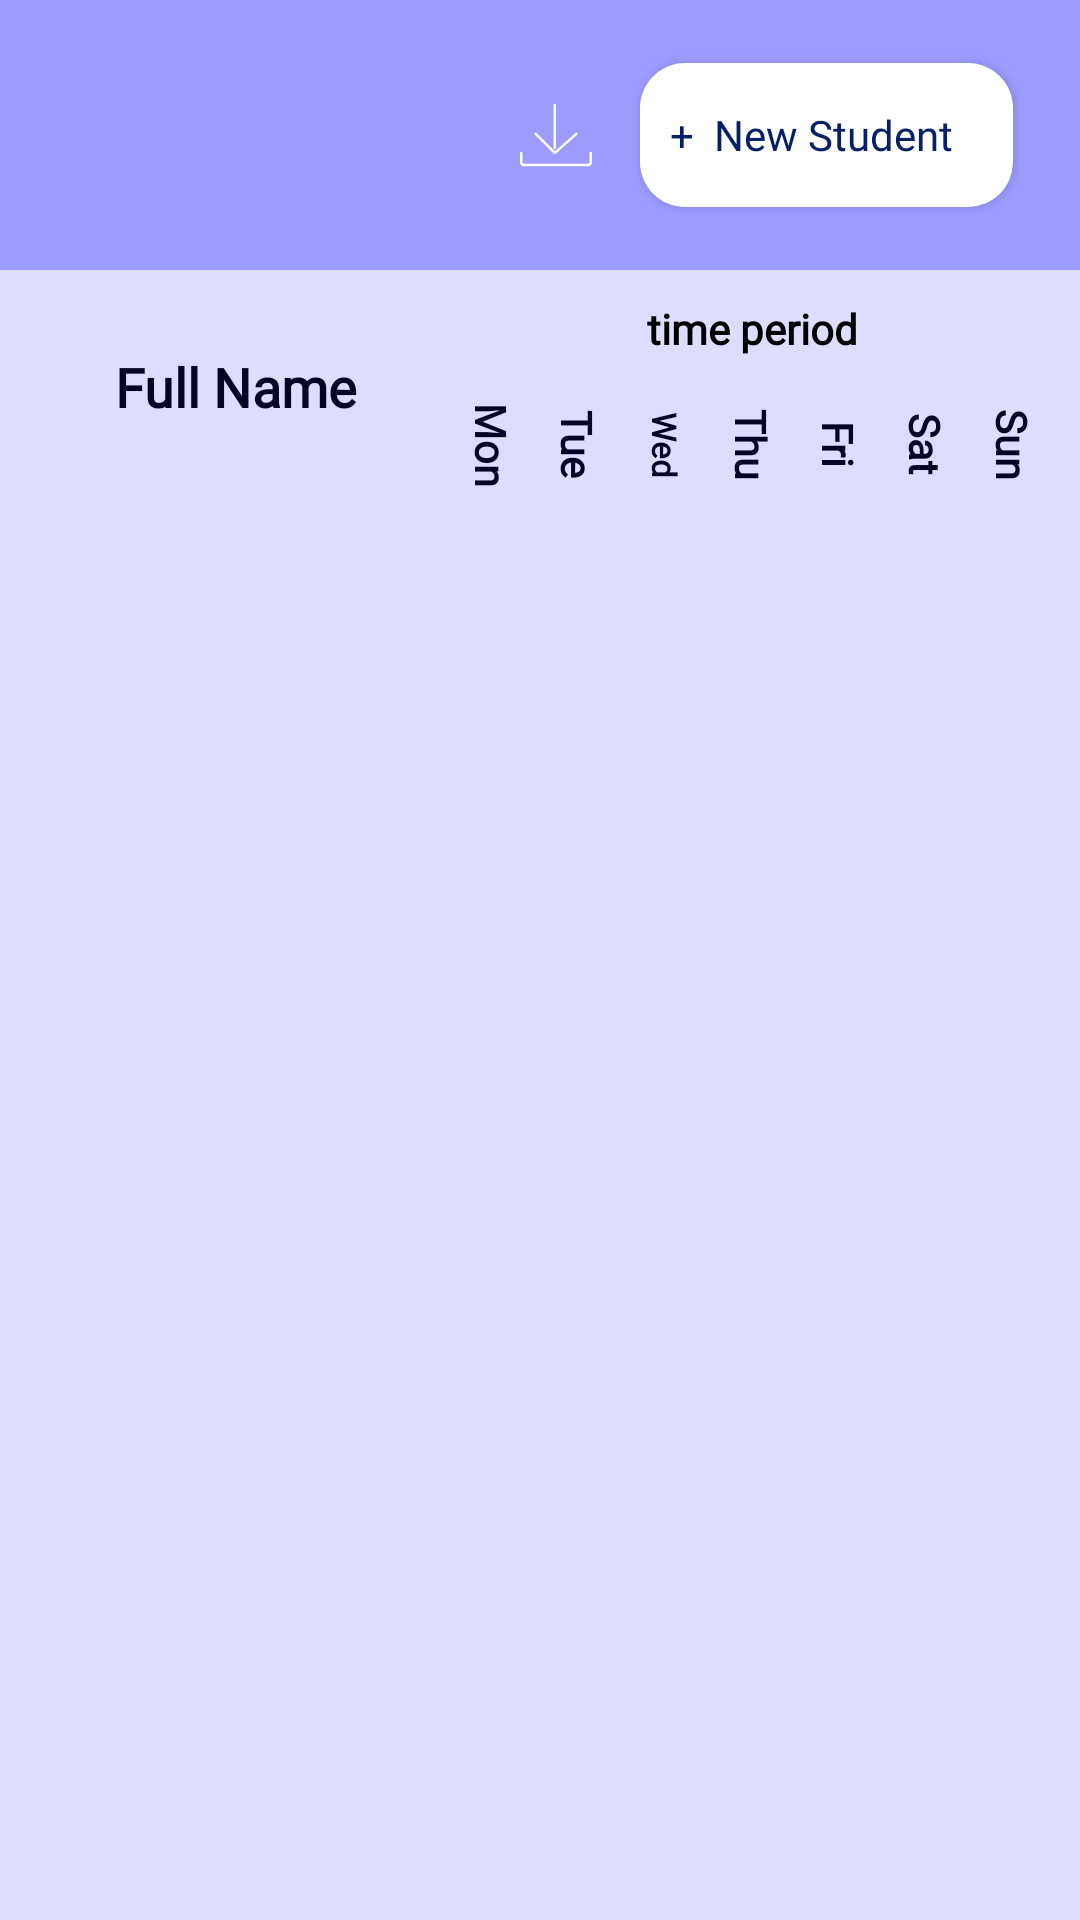

Icons on this 1080x1920 Android screen, each with its box as {"left": x1, "top": y1, "right": x2, "bottom": y2}:
save: {"left": 520, "top": 104, "right": 592, "bottom": 167}
